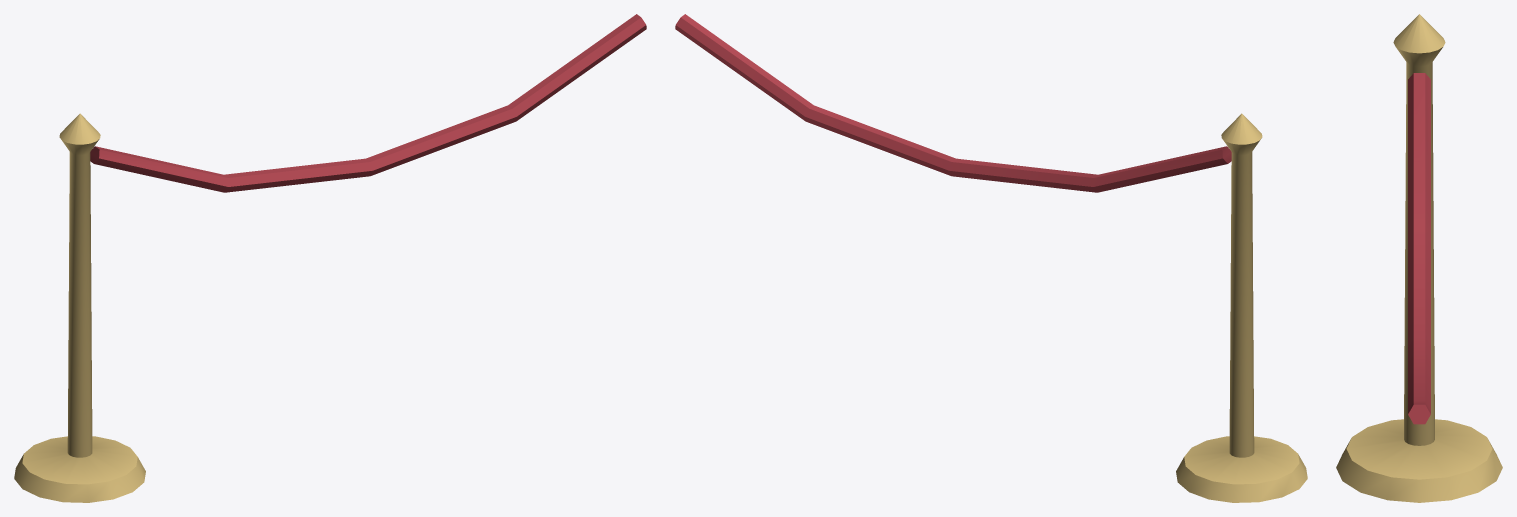
The model's file is stanchion.glb.
3 views of the same model, side by side, from view 1: azimuth 30°, elevation 25°; view 2: azimuth 150°, elevation 25°; view 3: azimuth 270°, elevation 25° (orthographic). The views are drawn at different scales.
Parts seen in each view (by area): view 1: boat_brass2, boat_curtain; view 2: boat_brass2, boat_curtain; view 3: boat_brass2, boat_curtain.
Boxes of the visible parts, box(x1,y1,x2,y2) form: boat_brass2: box(14, 113, 145, 502); boat_curtain: box(90, 14, 646, 192); boat_brass2: box(1176, 113, 1307, 502); boat_curtain: box(675, 14, 1231, 192); boat_brass2: box(1336, 14, 1502, 502); boat_curtain: box(1408, 73, 1430, 424).
Bounding box in the file's own units: 1.73 × 0.96 × 0.32.
